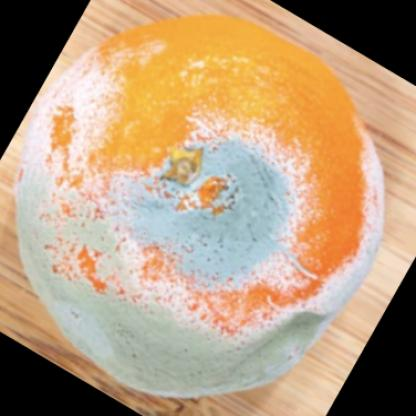rotten: (18, 14, 386, 401)
